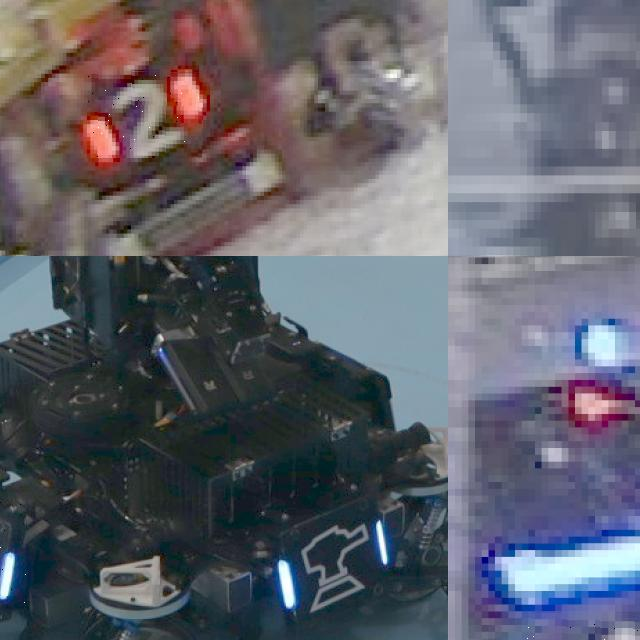Bs: (272, 512, 391, 619), (0, 492, 25, 604)
R2: (81, 69, 203, 158)
